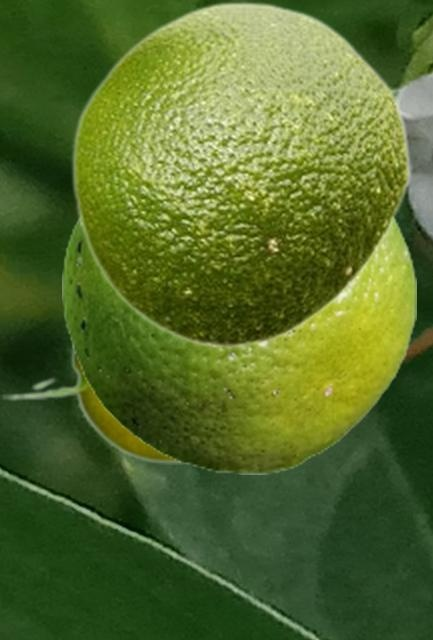calamansi: (70, 0, 410, 349), (62, 216, 415, 473), (0, 335, 178, 463)
